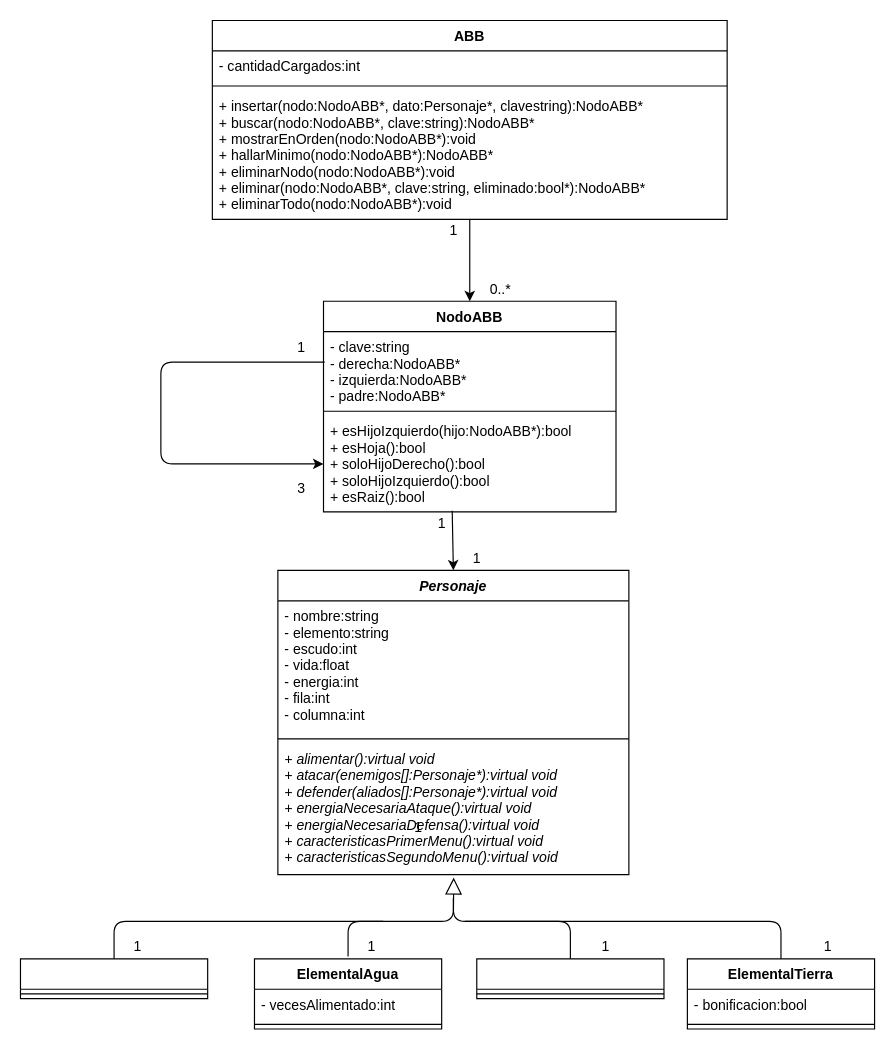
Image size: 895x1049. Some labels were removed from this diagram. The centre of each missing label's shape, as x and y in pixels:
ElementalAire: the point at 570,978
ElementalFuego: the point at 113,978
